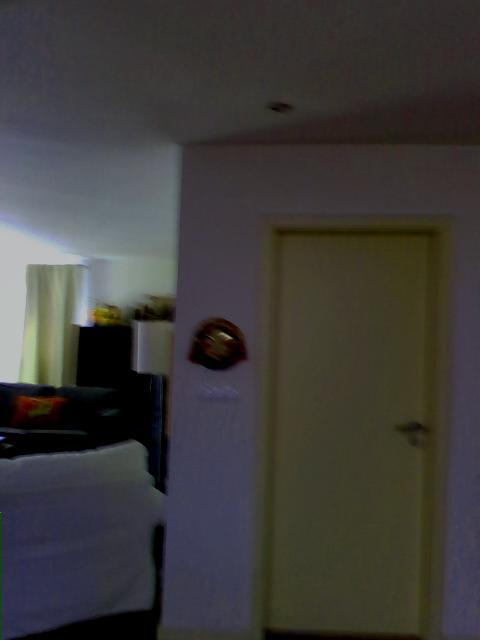closed_door: (260, 214, 451, 639)
